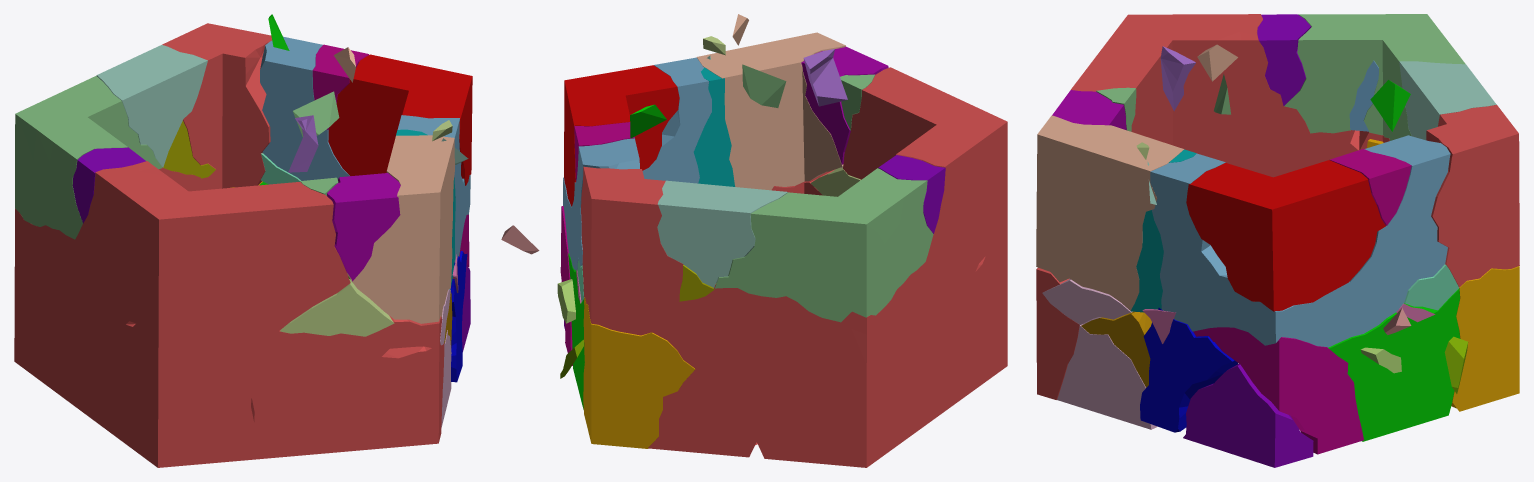
The model's file is fractured_77_39pcs.glb.
3 views of the same model, side by side, from view 1: azimuth 30°, elevation 25°; view 2: azimuth 150°, elevation 25°; view 3: azimuth 270°, elevation 25° (orthographic). The views are drawn at different scales.
Visible parts, largest first — view 1: piece_1.obj, piece_7.obj, piece_3.obj, piece_9.obj, piece_2.obj, piece_4.obj, piece_12.obj, piece_5.obj, piece_18.obj, piece_19.obj, piece_10.obj, piece_11.obj (+5 smaller); view 2: piece_1.obj, piece_3.obj, piece_7.obj, piece_0.obj, piece_4.obj, piece_2.obj, piece_9.obj, piece_13.obj, piece_12.obj, piece_18.obj, piece_24.obj, piece_32.obj (+9 smaller); view 3: piece_1.obj, piece_2.obj, piece_9.obj, piece_7.obj, piece_3.obj, piece_8.obj, piece_15.obj, piece_0.obj, piece_16.obj, piece_6.obj, piece_10.obj, piece_4.obj (+14 smaller).
Boxes of the visible parts, x1,y1,x2,y2 form: piece_1.obj: (14, 23, 444, 467); piece_7.obj: (347, 135, 454, 323); piece_3.obj: (15, 76, 162, 239); piece_9.obj: (328, 54, 472, 185); piece_2.obj: (260, 36, 470, 262); piece_4.obj: (96, 45, 207, 167); piece_12.obj: (327, 173, 400, 281); piece_5.obj: (280, 279, 394, 336); piece_18.obj: (72, 147, 145, 223); piece_19.obj: (312, 44, 368, 130); piece_10.obj: (450, 251, 467, 382); piece_11.obj: (162, 120, 215, 178); piece_1.obj: (581, 67, 1007, 467); piece_3.obj: (715, 168, 933, 322); piece_7.obj: (696, 32, 845, 190); piece_0.obj: (583, 297, 695, 448); piece_4.obj: (657, 180, 787, 287); piece_2.obj: (563, 57, 711, 270); piece_9.obj: (564, 65, 679, 206); piece_13.obj: (693, 67, 735, 186); piece_12.obj: (801, 46, 888, 167); piece_18.obj: (878, 155, 945, 233); piece_24.obj: (803, 49, 847, 106); piece_32.obj: (742, 64, 786, 107); piece_1.obj: (1036, 14, 1519, 399); piece_2.obj: (1150, 135, 1450, 347); piece_9.obj: (1186, 160, 1385, 311); piece_7.obj: (1036, 115, 1184, 310); piece_3.obj: (1284, 14, 1465, 140); piece_8.obj: (1328, 289, 1460, 441); piece_15.obj: (1193, 327, 1363, 454); piece_0.obj: (1451, 266, 1519, 411); piece_16.obj: (1183, 364, 1313, 467); piece_6.obj: (1042, 279, 1157, 429); piece_10.obj: (1140, 307, 1238, 432); piece_4.obj: (1399, 61, 1496, 140).
Bounding box in the file's own units: 0.9558 × 0.9356 × 1.
